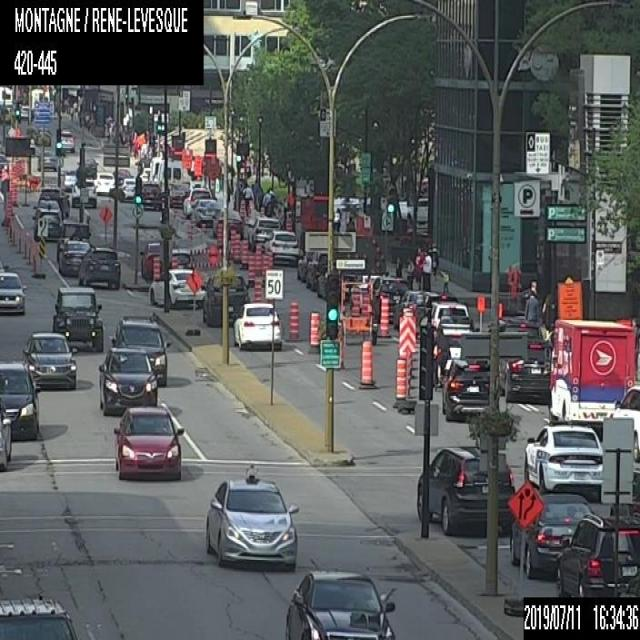construction: (330, 234, 386, 344), (398, 308, 416, 395), (356, 338, 378, 390), (185, 268, 201, 335), (556, 279, 581, 318), (506, 264, 522, 314), (188, 246, 220, 270), (391, 355, 405, 409), (376, 296, 392, 337), (306, 307, 319, 352), (98, 205, 111, 246), (289, 298, 298, 342), (476, 295, 484, 336), (215, 214, 223, 247), (230, 232, 239, 261), (180, 147, 191, 169), (362, 294, 372, 318), (350, 290, 359, 315), (238, 196, 246, 223), (262, 252, 270, 278), (193, 154, 202, 177), (284, 209, 292, 231), (254, 244, 261, 269), (248, 254, 255, 279), (240, 240, 247, 265), (254, 276, 261, 301), (9, 181, 16, 205), (151, 256, 158, 280), (6, 191, 12, 215)
pedestrian: (522, 280, 554, 349), (413, 246, 423, 288), (421, 249, 431, 291), (242, 182, 253, 216), (262, 186, 274, 217), (406, 260, 413, 288), (441, 270, 449, 294), (333, 207, 341, 230), (394, 255, 401, 276), (346, 214, 354, 230), (69, 106, 74, 118)
vehicle: (203, 472, 300, 572), (415, 439, 517, 532), (549, 317, 635, 423), (283, 566, 395, 638), (507, 491, 597, 579), (554, 512, 639, 599), (520, 421, 612, 492), (112, 405, 184, 480), (495, 317, 552, 402), (507, 479, 540, 615), (98, 344, 160, 414), (110, 315, 170, 386), (0, 594, 80, 638), (52, 284, 105, 349), (22, 330, 78, 390), (442, 357, 491, 420), (0, 360, 39, 439), (232, 299, 283, 350), (203, 274, 250, 326), (148, 266, 205, 307), (612, 382, 639, 466), (77, 245, 120, 289), (432, 323, 472, 368), (392, 288, 431, 328), (372, 276, 408, 319), (418, 299, 467, 330), (55, 220, 90, 260), (58, 238, 94, 276), (139, 240, 170, 282), (263, 228, 299, 262), (0, 269, 27, 314), (248, 216, 280, 249), (38, 184, 70, 217), (156, 158, 182, 194), (316, 264, 341, 301), (33, 206, 60, 240), (212, 209, 241, 239), (182, 186, 212, 214), (306, 249, 326, 290), (192, 198, 218, 226), (72, 178, 96, 207), (34, 198, 62, 222), (139, 181, 162, 209), (168, 182, 190, 206), (169, 247, 194, 268), (91, 171, 114, 193), (117, 176, 136, 202), (297, 250, 312, 282), (38, 148, 58, 170), (138, 167, 158, 184), (60, 128, 74, 150)
